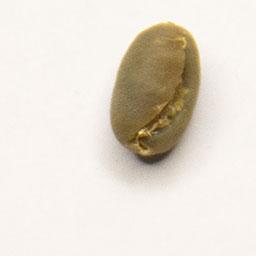peaberry: (102, 18, 203, 161)
